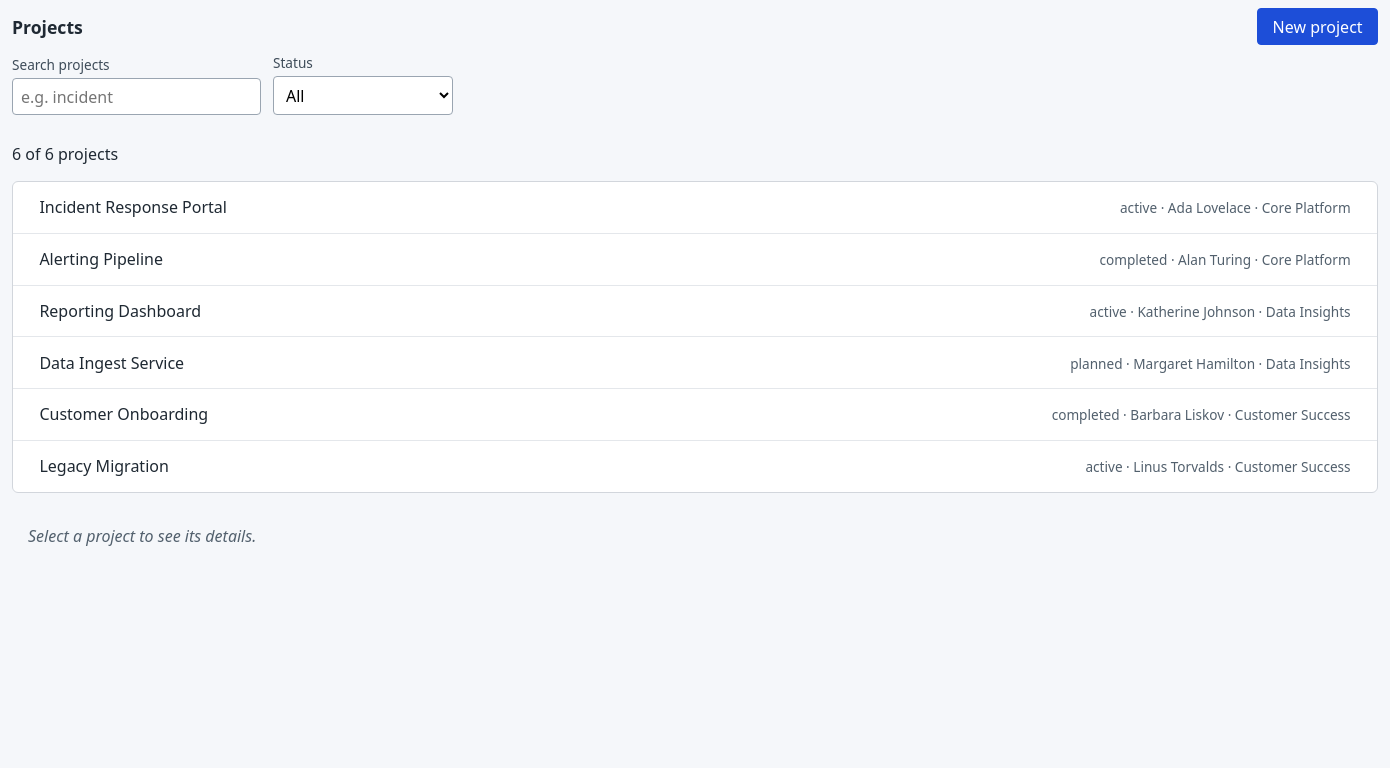
Test: ProjectsPage — detail (PRJ-VIEW) › project-006 shows an explicit empty state in its task list (PRJ-VIEW-3)
This screenshot has width=1390, height=768.
Click the button "Legacy Migration active · Linus Torvalds · Customer Success": (104, 466) 25,449 -> 1365,484
(page scrolled)
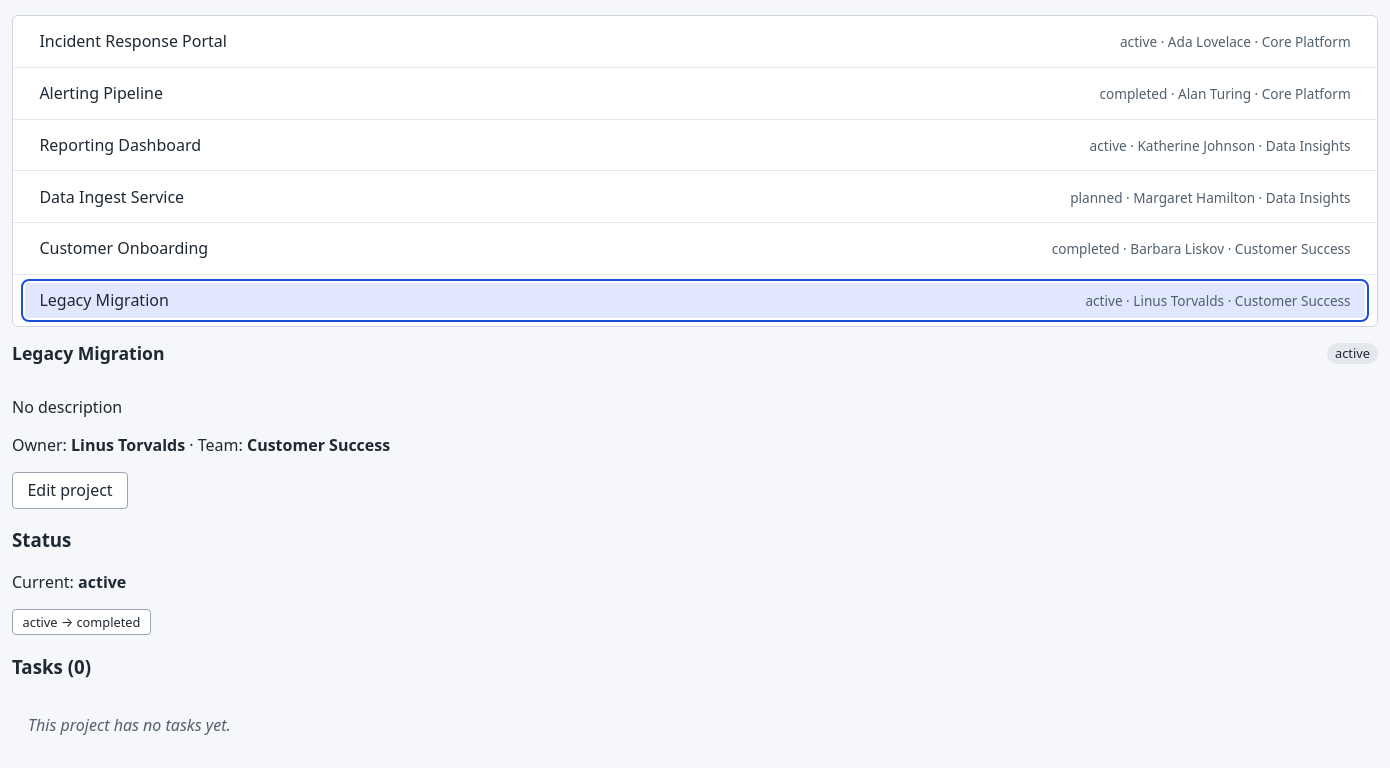
Expected: the text "This project has no tasks yet." is shown, 28,714 -> 231,736
